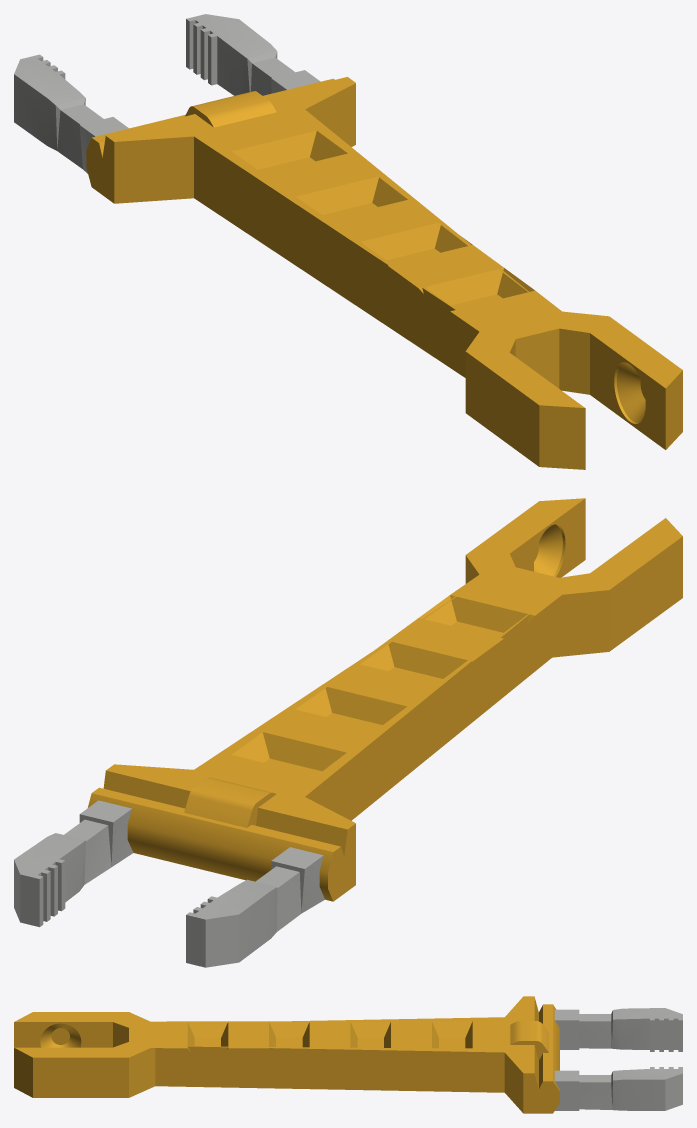
Rendered from inserter-arm-long-hand-closed.glb.
3 views of the same model, one above another, from view 1: azimuth 30°, elevation 25°; view 2: azimuth 150°, elevation 25°; view 3: azimuth 270°, elevation 25° (orthographic). The views are drawn at different scales.
Visible parts, largest first — view 1: body; view 2: body; view 3: body.
Boxes of the visible parts, x1,y1,x2,y2 form: body: [14, 14, 682, 469]; body: [14, 498, 682, 967]; body: [14, 996, 682, 1113].
Bounding box in the file's own units: 0.3696 × 0.099 × 1.36.
